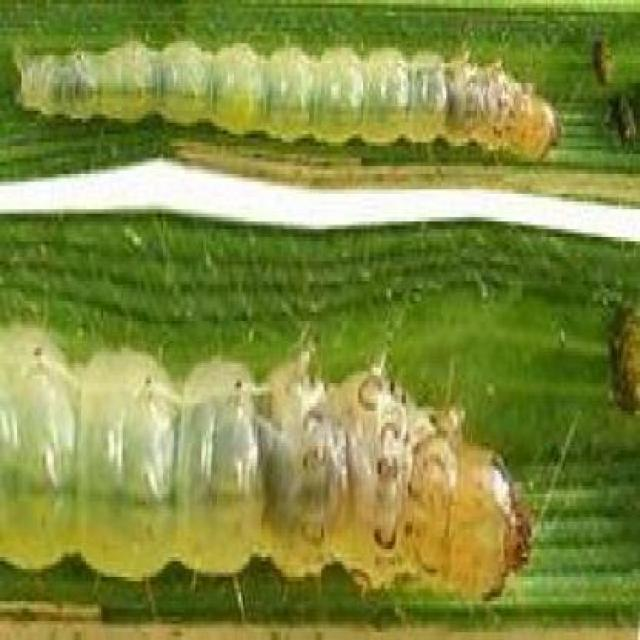leaf-folder: (31, 306, 540, 614), (17, 24, 571, 184)
